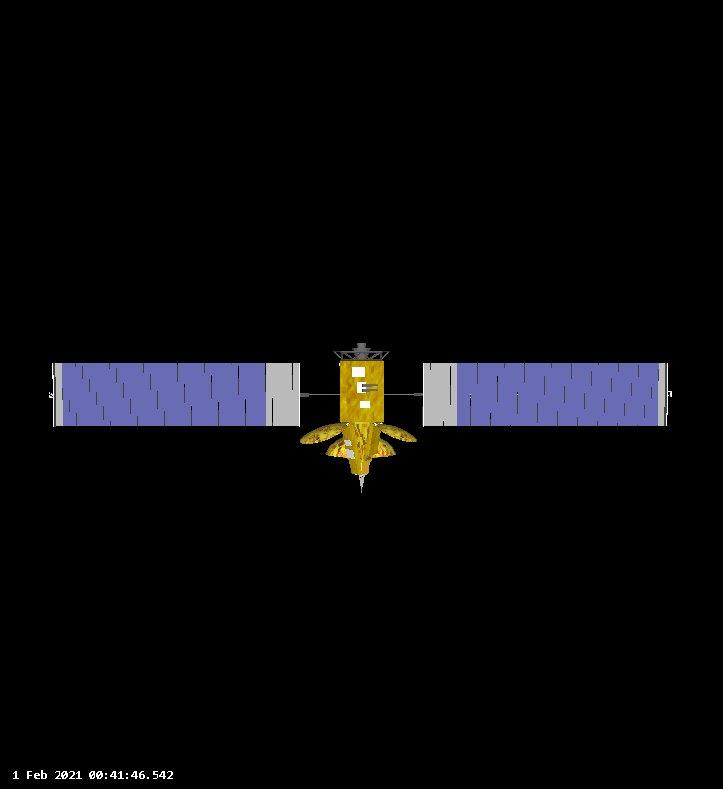antenna: (321, 436, 401, 496), (299, 421, 346, 445), (376, 421, 419, 444)
body: (338, 357, 386, 425)
solar: (49, 360, 303, 429), (421, 360, 671, 429)
thruster: (350, 341, 373, 360)
